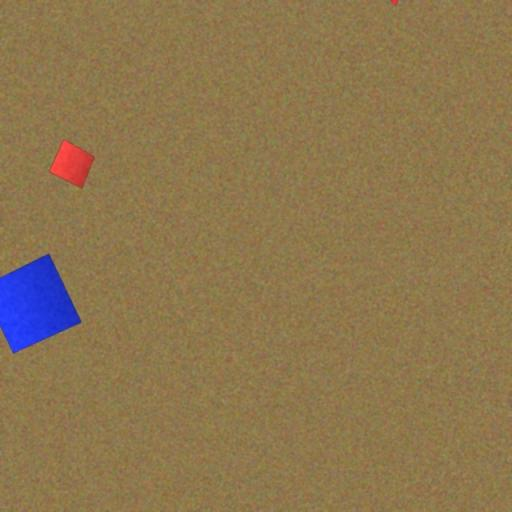BLUE_SQUARE: (0, 252, 82, 353)
RED_SQUARE: (48, 138, 95, 189)
